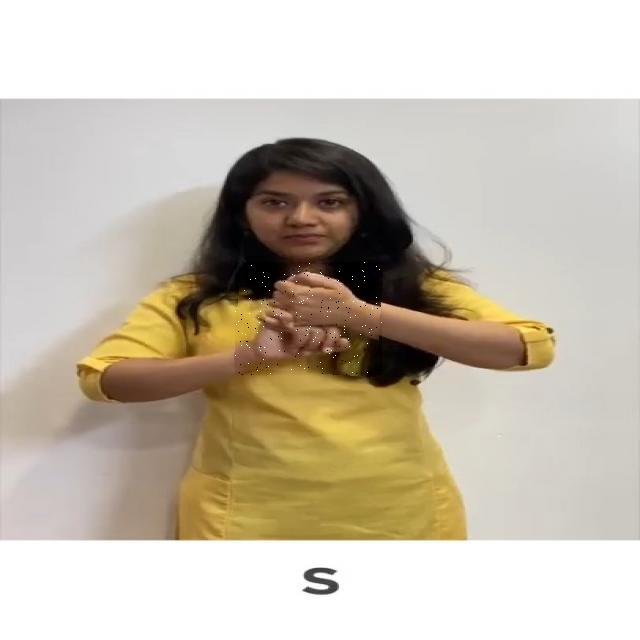S: (235, 262, 382, 375)
